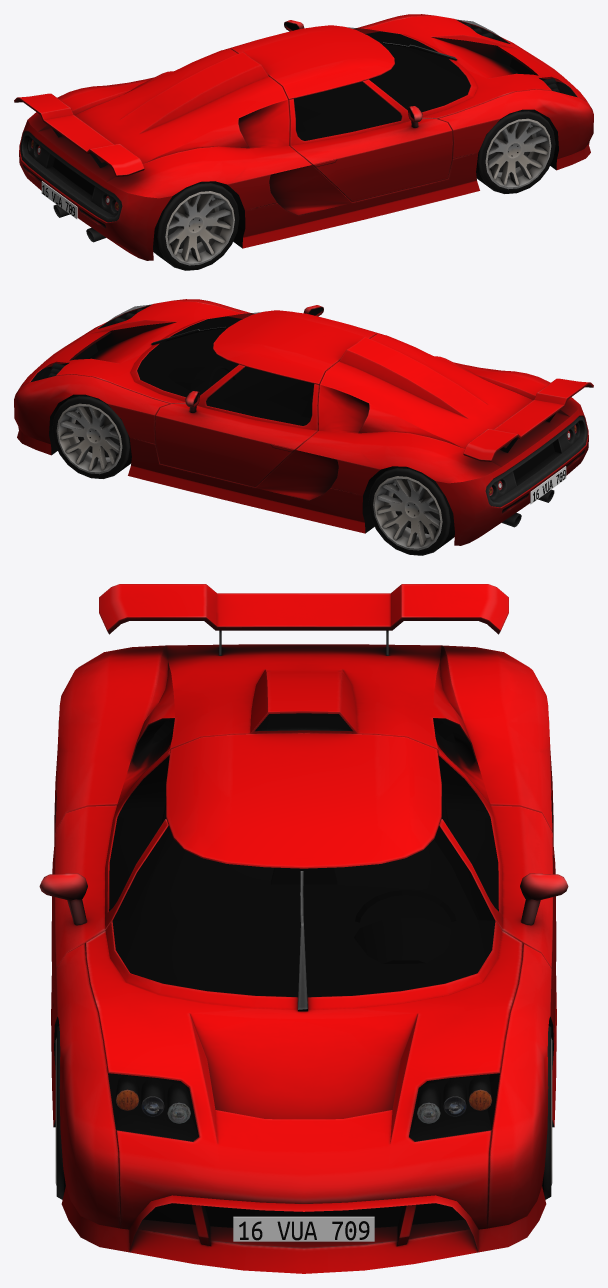
File: CarPlated6512.dae
3 views of the same model, one above another, from view 1: azimuth 30°, elevation 25°; view 2: azimuth 150°, elevation 25°; view 3: azimuth 270°, elevation 25° (orthographic). The views are drawn at different scales.
Parts seen in each view (by area): view 1: CarPlated6512; view 2: CarPlated6512; view 3: CarPlated6512.
Part boxes in pixels (x1,y1,x2,y2): CarPlated6512: (14, 14, 593, 270); CarPlated6512: (14, 299, 593, 555); CarPlated6512: (39, 584, 568, 1273).
Size of the model in its own units: 3.93 by 1.77 by 1.04.
